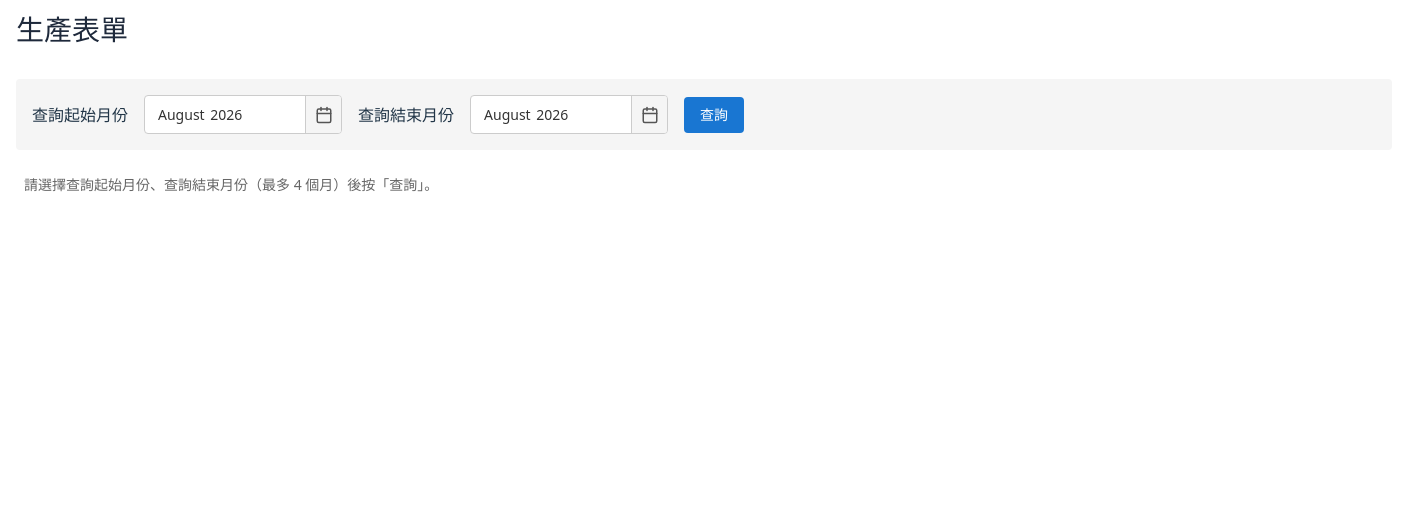
Test: ProductionPlanPage › loads data when Query button is clicked
Click the button "查詢".
click(714, 115)  # box [684,97,744,133]
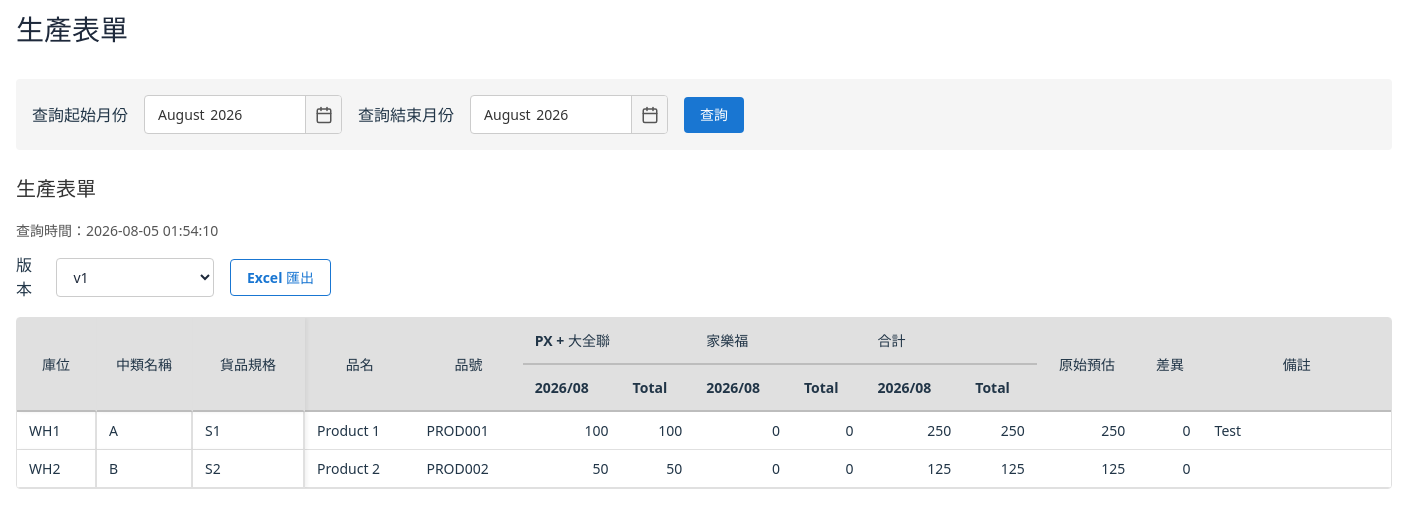
Now the text "PROD001" is shown, box [414,412,523,450]
Now the text "Product 1" is shown, box [305,412,414,450]
Now the text "PROD002" is shown, box [414,450,523,488]
